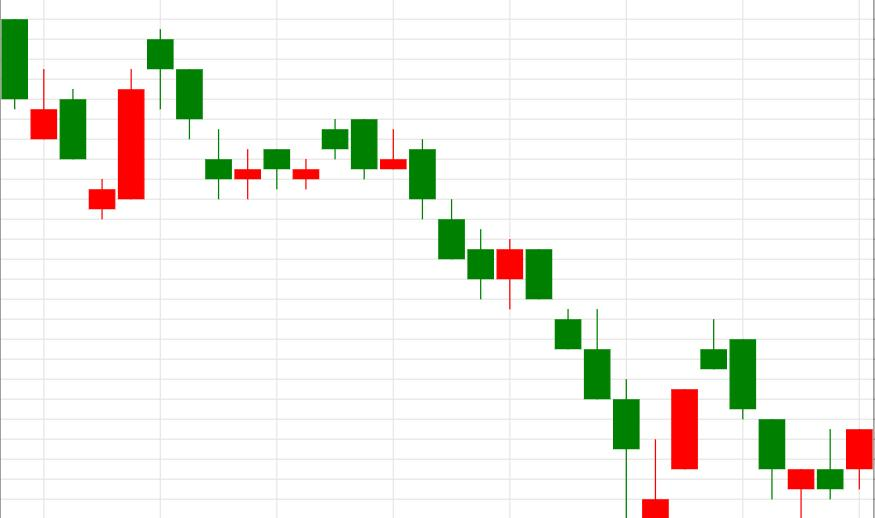morning_star_rise: (351, 118, 698, 518)
